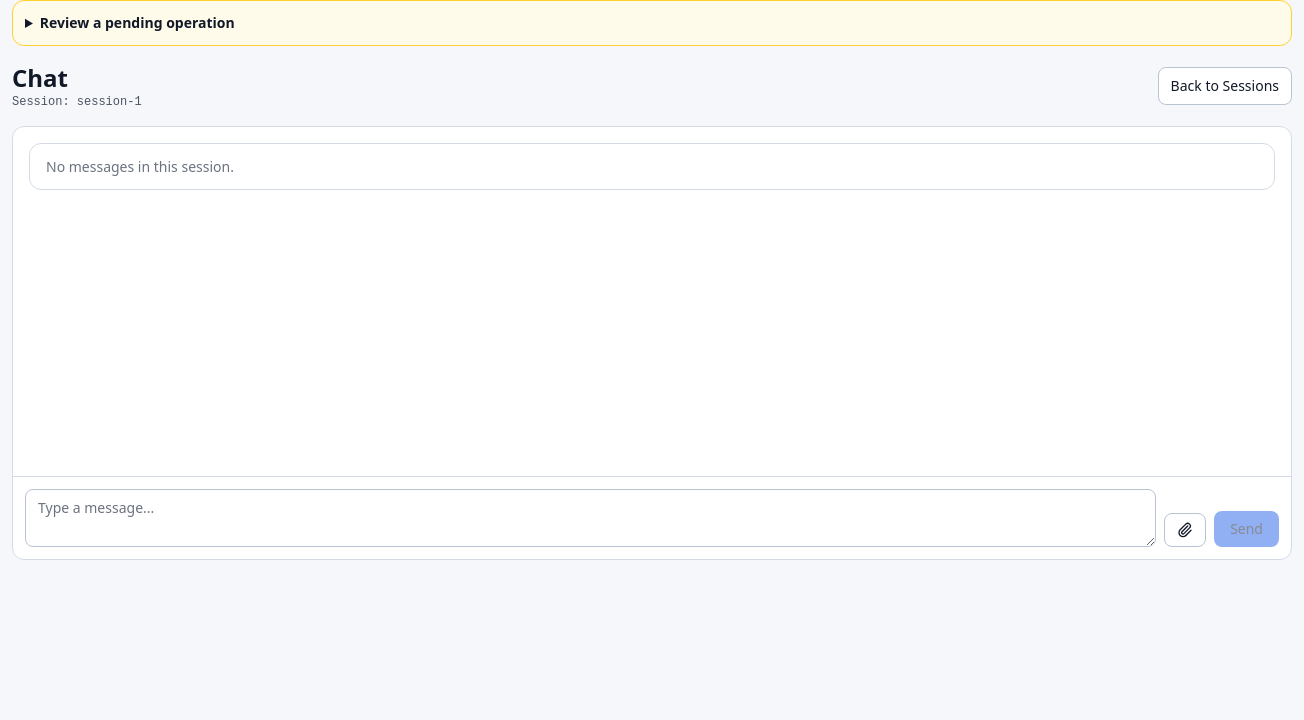
Scenario: a missing job enables the composer and restores the draft
In the text box with placeholder "Type a message...": (591, 518) [25,489,1156,547], type "keep this draft"
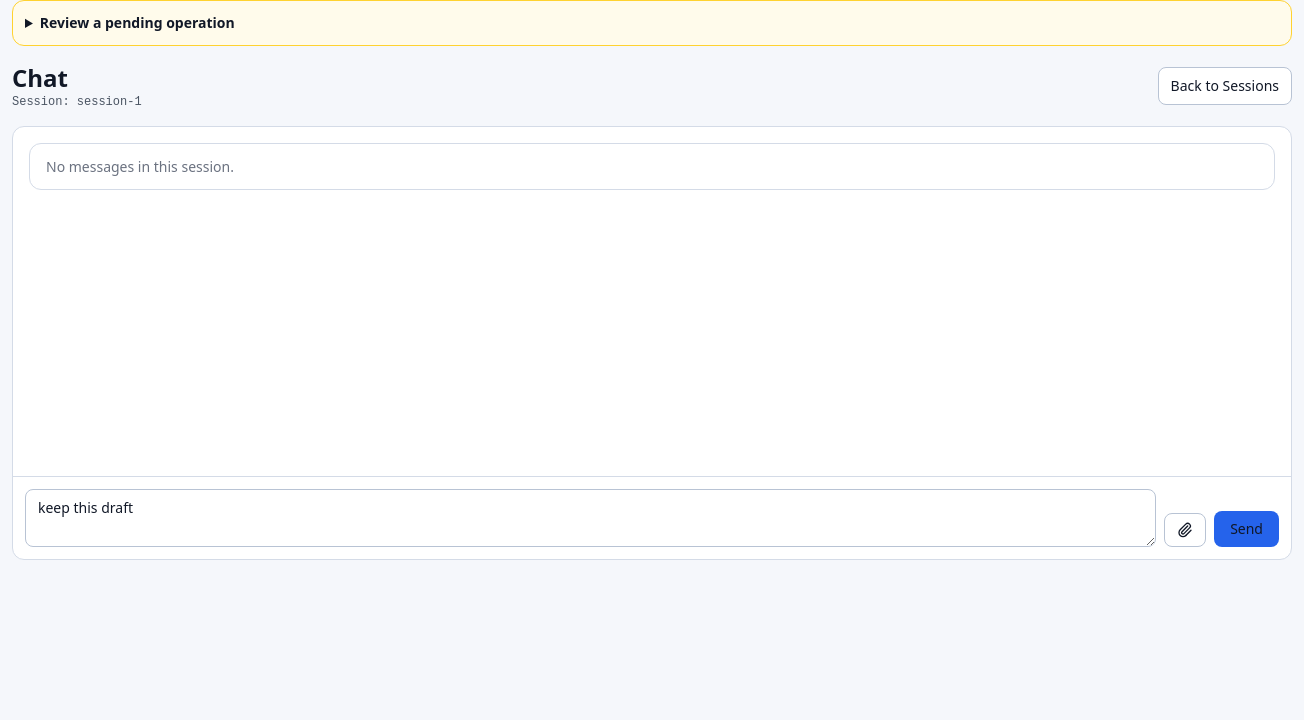
Click the button "Send": (1247, 529) [1214,511,1279,547]
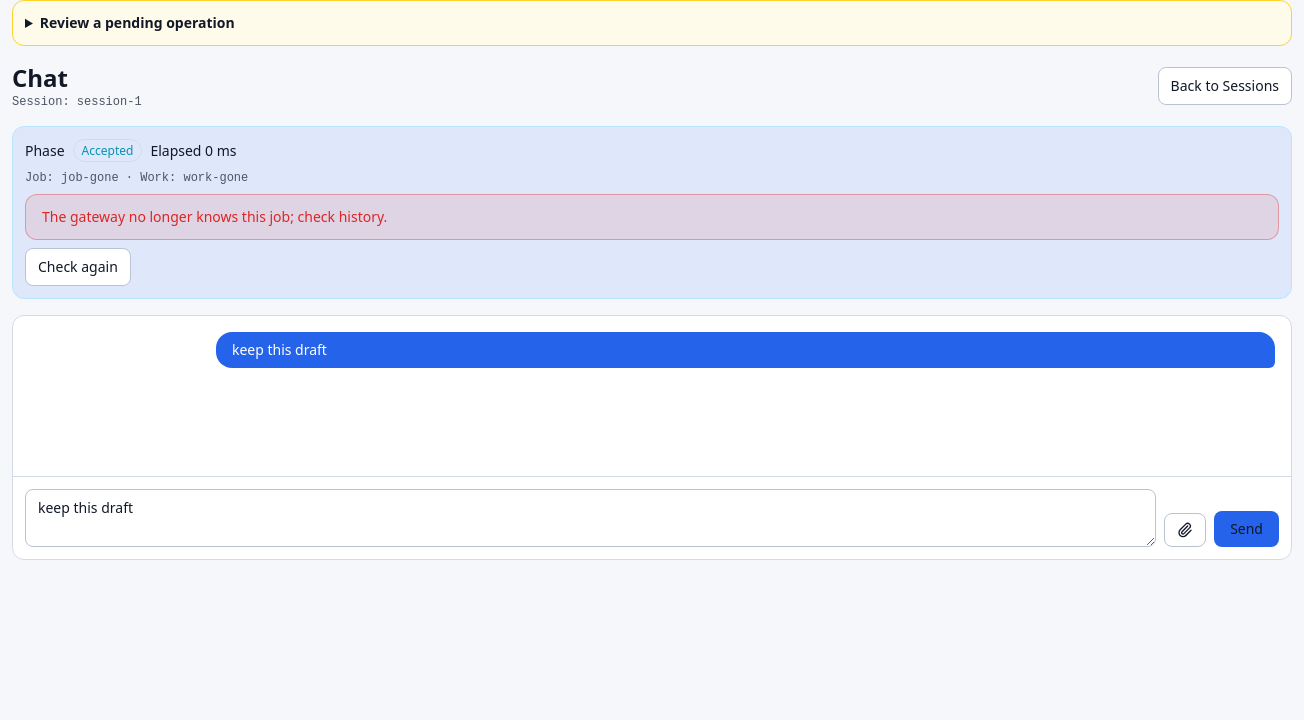
Expected: the button titled "Attach files" is enabled, [1164,513,1206,547]
Expected: the button "Send" is enabled, [1214,511,1279,547]
Expected: the text "The gateway no longer knows this job; check history." is shown, [42,207,387,226]
